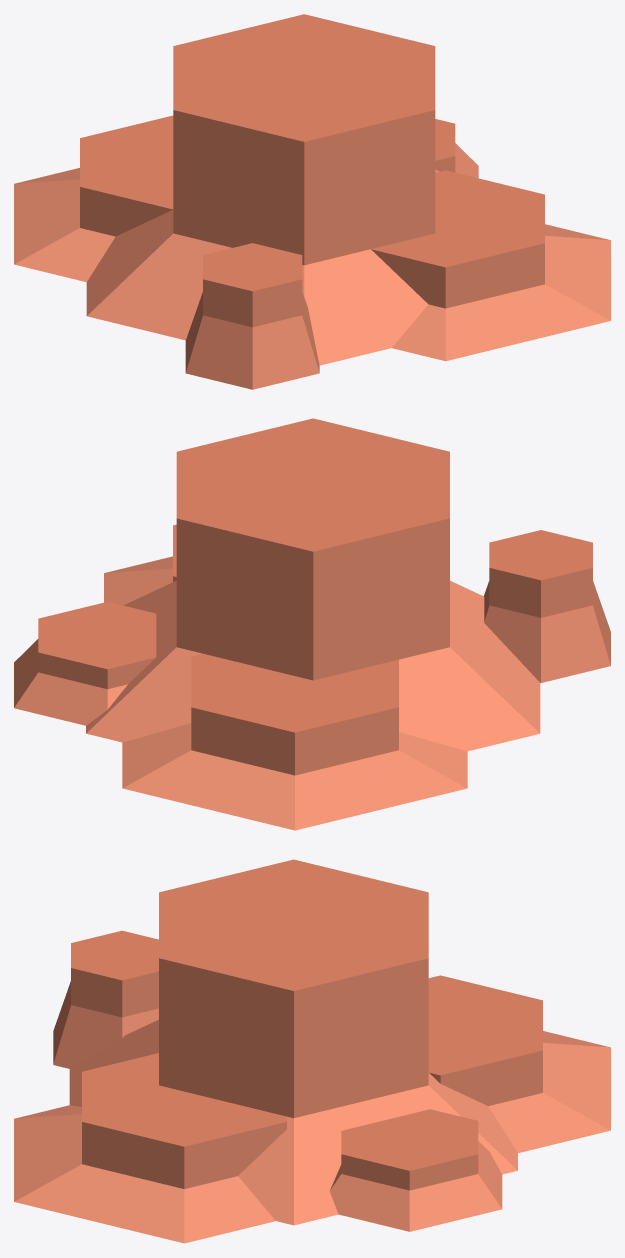
File: rock.obj
The picture shows the model from 3 angles, top to bottom: view 1: azimuth 30°, elevation 25°; view 2: azimuth 150°, elevation 25°; view 3: azimuth 270°, elevation 25°; orthographic projection. The views are drawn at different scales.
Visible parts, largest first — view 1: rock; view 2: rock; view 3: rock.
Part boxes in pixels (<box>): rock: <box>14,14,610,389</box>; rock: <box>14,418,610,830</box>; rock: <box>14,859,610,1243</box>.
Bounding box in the file's own units: 0.8015 × 0.3 × 0.8509.
